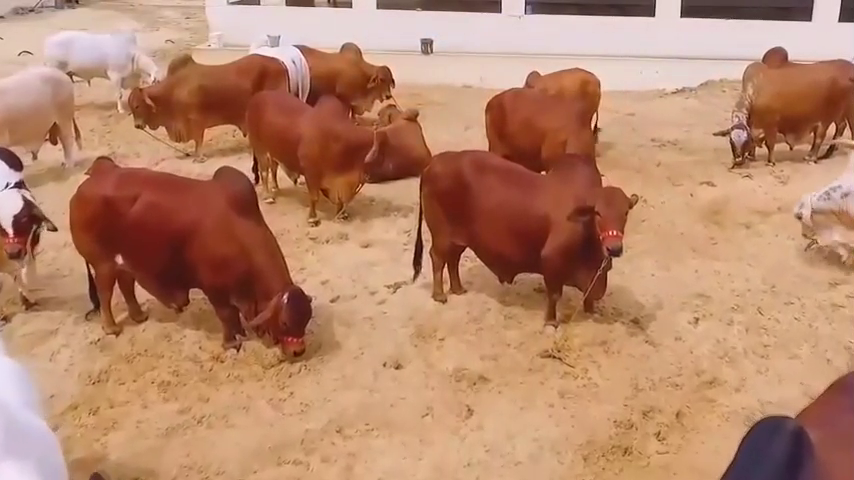bo: (62, 143, 322, 369), (405, 140, 641, 334), (229, 76, 380, 229), (701, 344, 854, 480), (122, 43, 294, 156), (728, 49, 851, 168), (476, 77, 598, 182), (35, 17, 167, 105), (1, 149, 60, 330), (1, 338, 72, 480), (1, 60, 81, 179), (300, 35, 404, 120), (791, 153, 854, 269), (239, 21, 315, 110), (361, 88, 434, 173), (514, 53, 600, 111)
